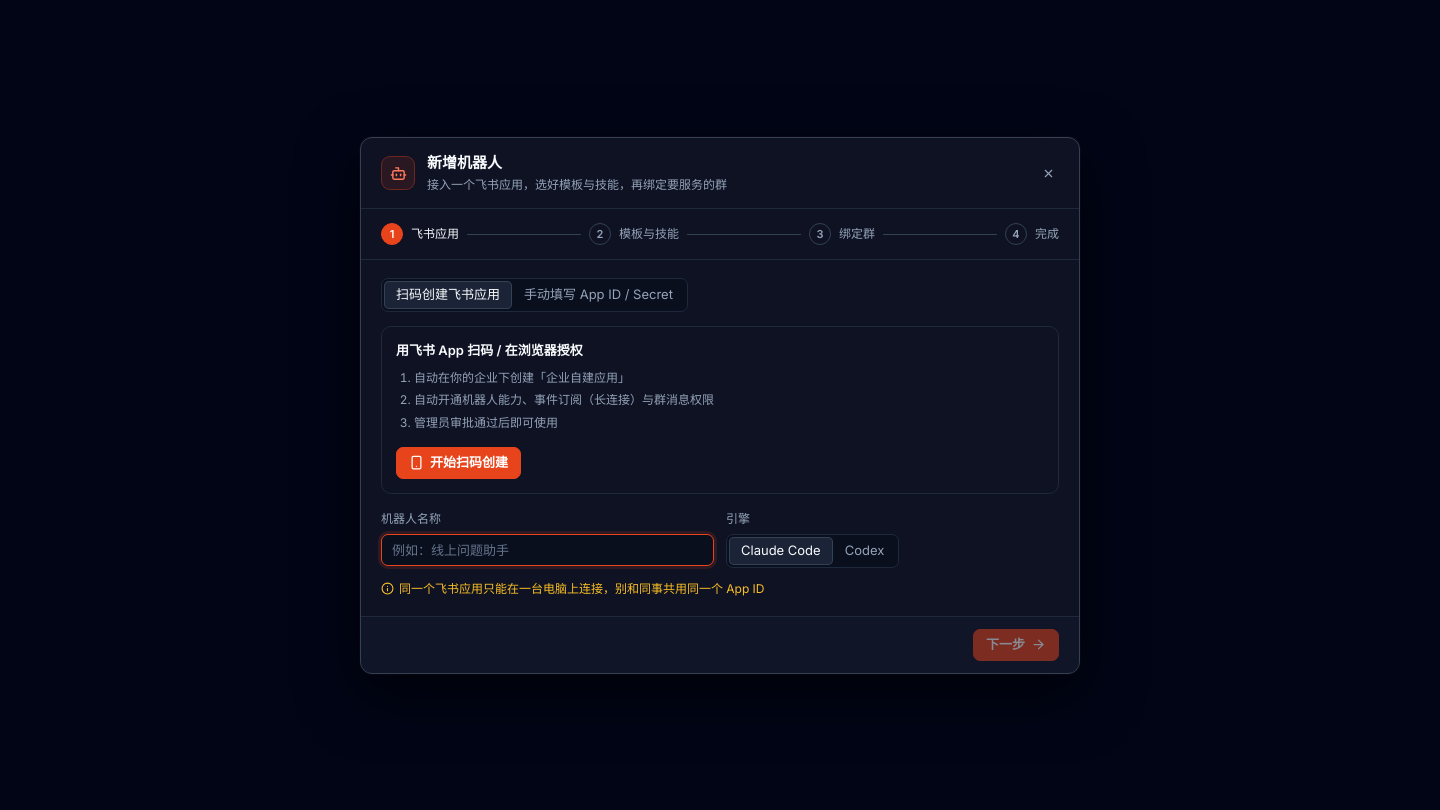
Test: 新增机器人向导 › 扫码失败显示中文原因
This screenshot has width=1440, height=810.
What coordinates should you click on to do the following:
click the button "开始扫码创建"
I would click on:
 (458, 463)
Its box is [396, 447, 521, 479].
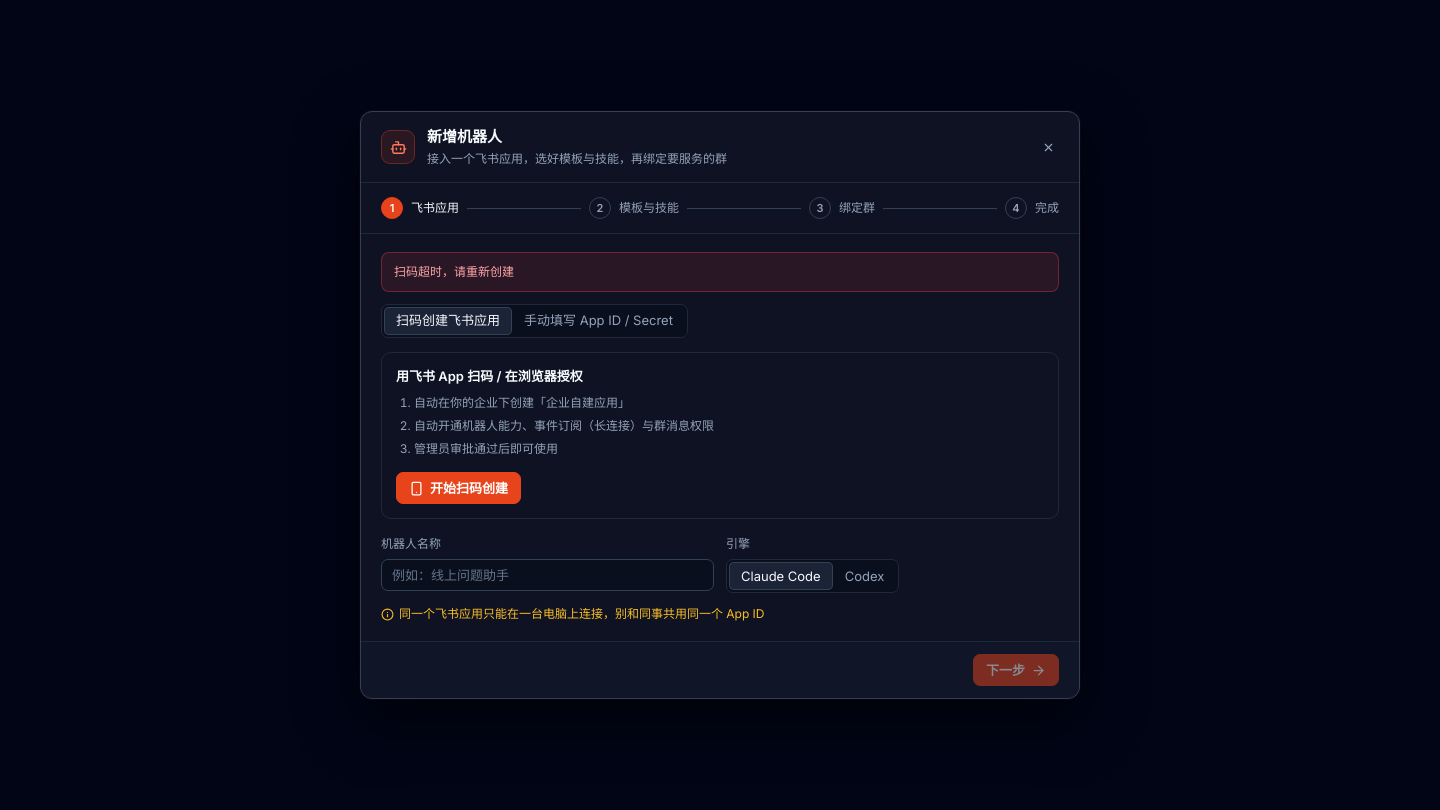
Check: the message reads "扫码超时，请重新创建", box [394, 264, 514, 279]
